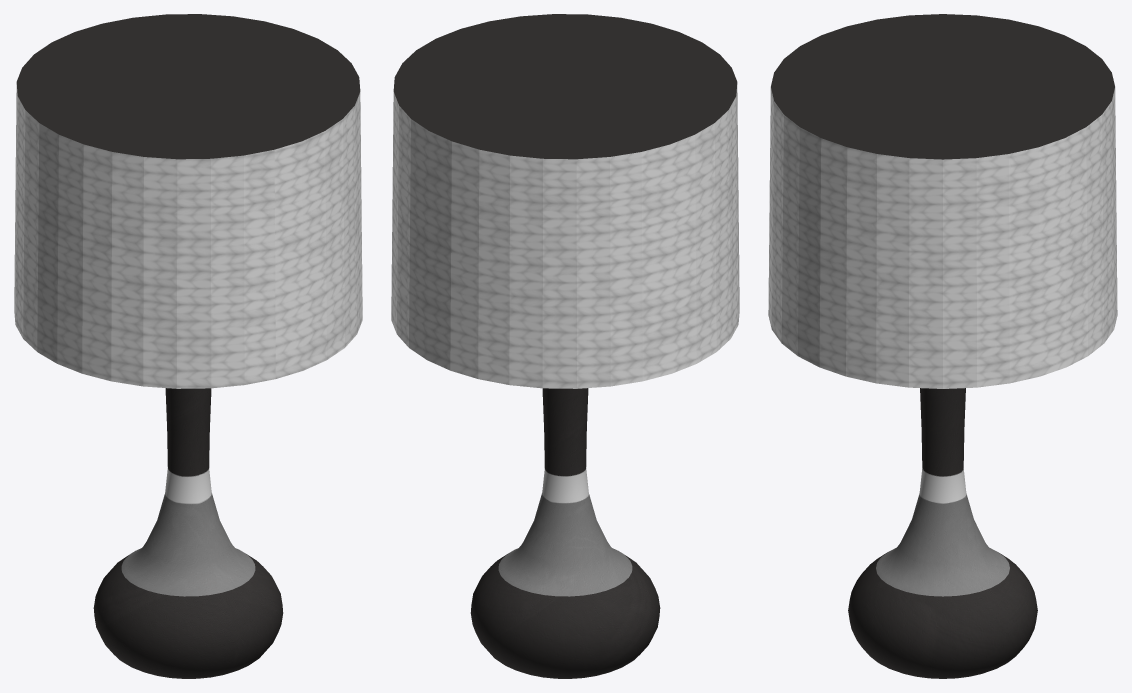
Rendered from SM_Lamp_A.fbx.
3 renders of one model, left to right at view 1: azimuth 30°, elevation 25°; view 2: azimuth 150°, elevation 25°; view 3: azimuth 270°, elevation 25°, orthographic.
Parts seen in each view (by area): view 1: SM_Lamp_A; view 2: SM_Lamp_A; view 3: SM_Lamp_A.
Boxes of the visible parts, left/top/right/bottom form: SM_Lamp_A: left=14, top=14, right=362, bottom=678; SM_Lamp_A: left=391, top=14, right=739, bottom=678; SM_Lamp_A: left=768, top=14, right=1117, bottom=678.
Bounding box in the file's own units: 30.44 × 54.45 × 30.44.
